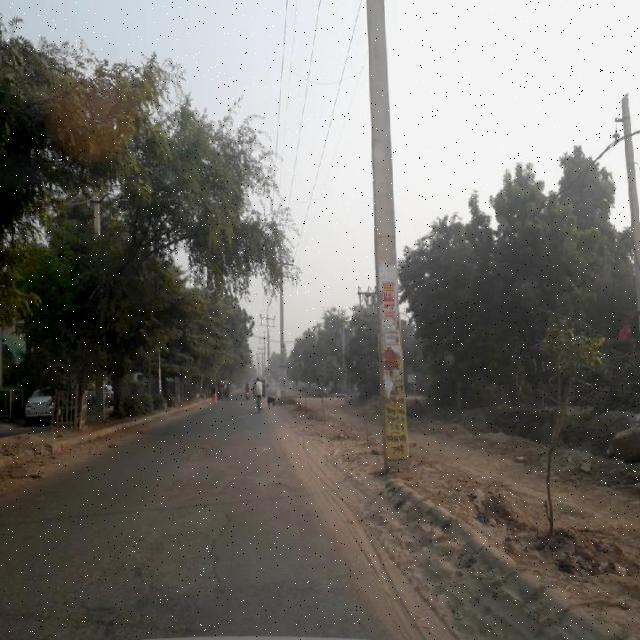D00: (200, 506, 236, 594)
D40: (37, 540, 186, 639)
